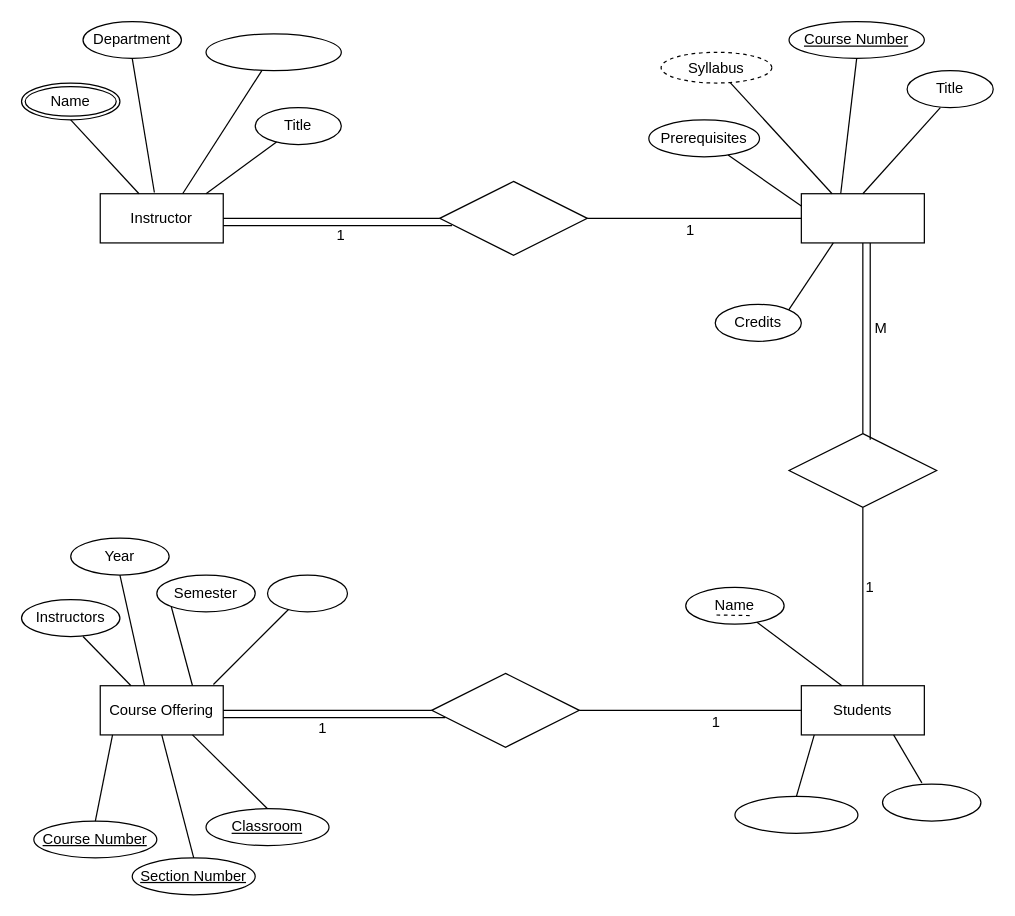
Some shapes in this 1015 by 916 pixel diagram are drawn without their labels. Each missing label, with the box of its shape:
Courses: (800, 192, 924, 243)
Erollment: (788, 432, 937, 507)
Grades Awarded: (430, 672, 579, 747)
Instructor Number: (205, 33, 341, 71)
Program: (881, 783, 981, 821)
Student Id: (734, 795, 858, 833)
Teaches: (438, 180, 587, 255)
Timing: (266, 574, 347, 612)
